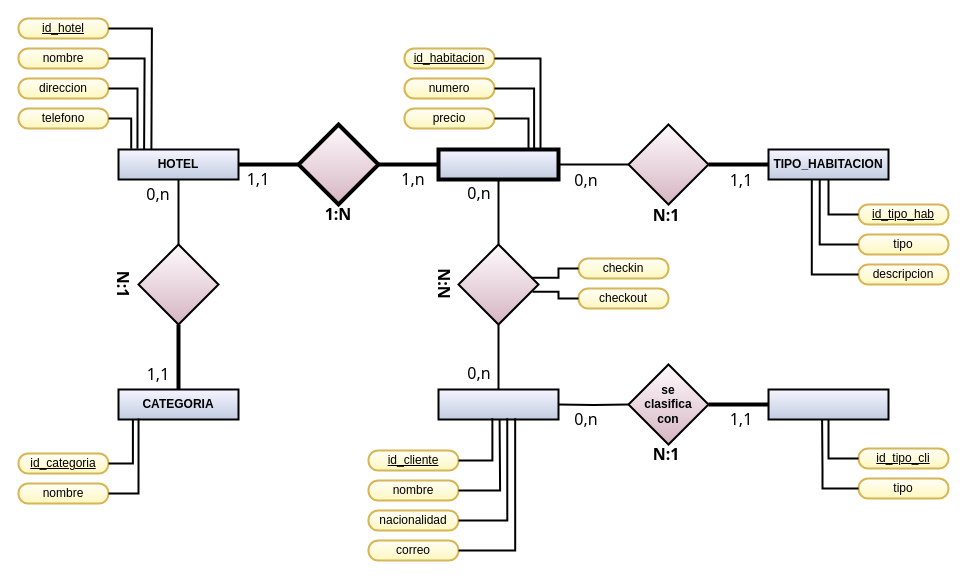
This 966x578 diagram has some shape labels left out. The centre of each missing label's shape, as x and y in pixels:
"CLIENTE" goes at pixel 498 404.
"HABITACION" goes at pixel 498 164.
"mantiene" goes at pixel 178 284.
"reserva" goes at pixel 498 284.
"se agrupa segun" goes at pixel 668 164.
"tiene" goes at pixel 338 164.
"TIPO_CLIENTE" goes at pixel 828 404.
